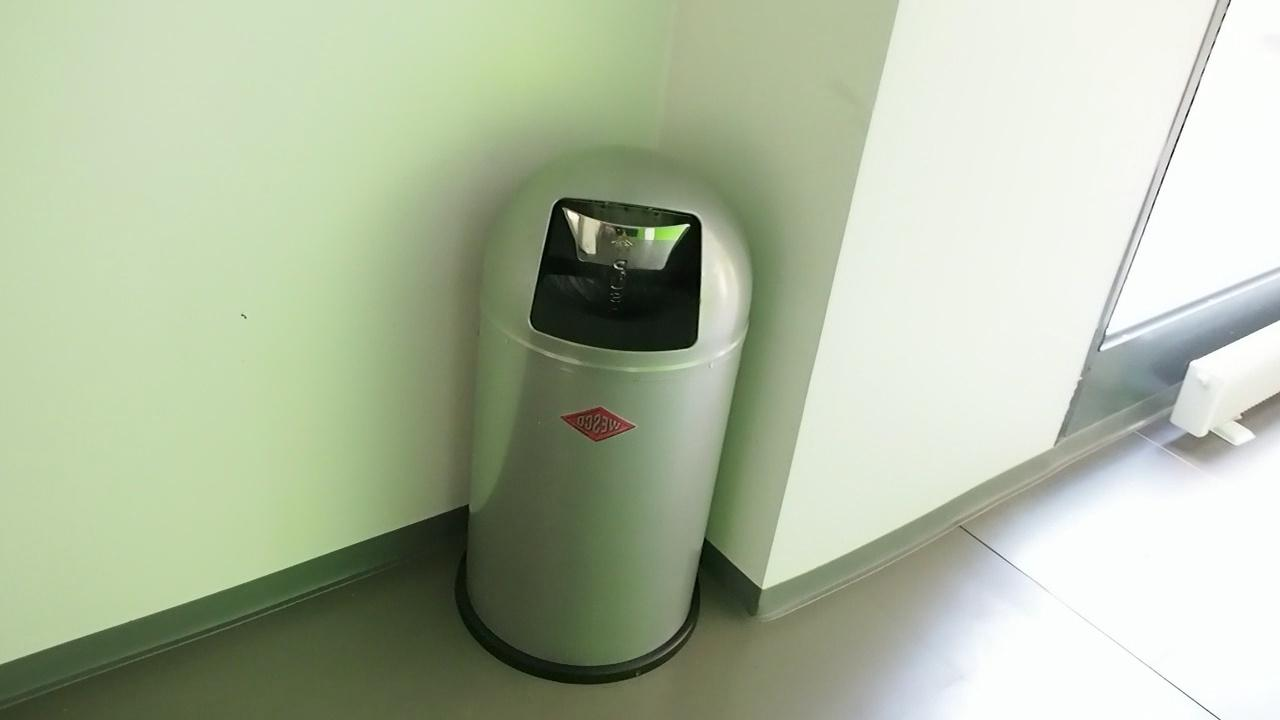trashbin: (455, 136, 764, 679)
